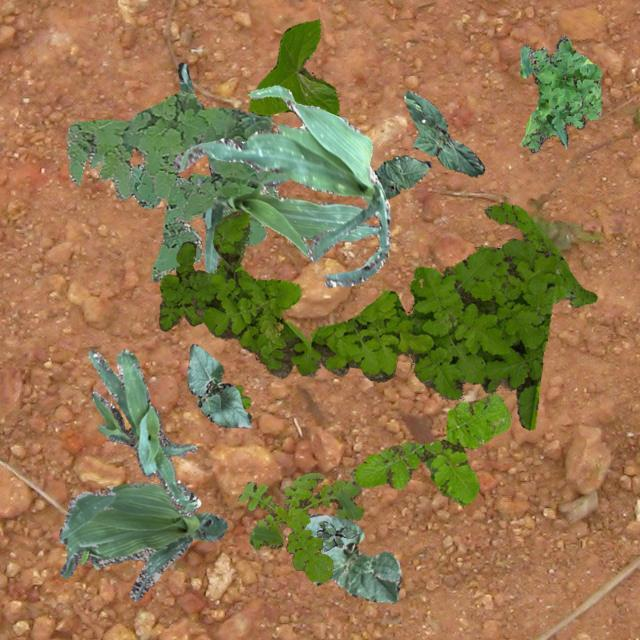crop: (172, 85, 388, 286), (176, 61, 378, 272), (58, 480, 226, 600), (86, 348, 200, 516), (302, 512, 400, 602), (248, 20, 338, 114), (404, 90, 484, 176), (186, 342, 250, 428), (372, 154, 431, 198)
weed: (192, 208, 556, 430), (64, 90, 270, 222), (346, 392, 509, 504), (128, 162, 278, 280), (236, 472, 362, 582), (484, 200, 596, 306), (518, 36, 600, 152), (158, 240, 225, 330), (316, 520, 356, 550), (233, 383, 250, 408), (78, 550, 100, 568)
